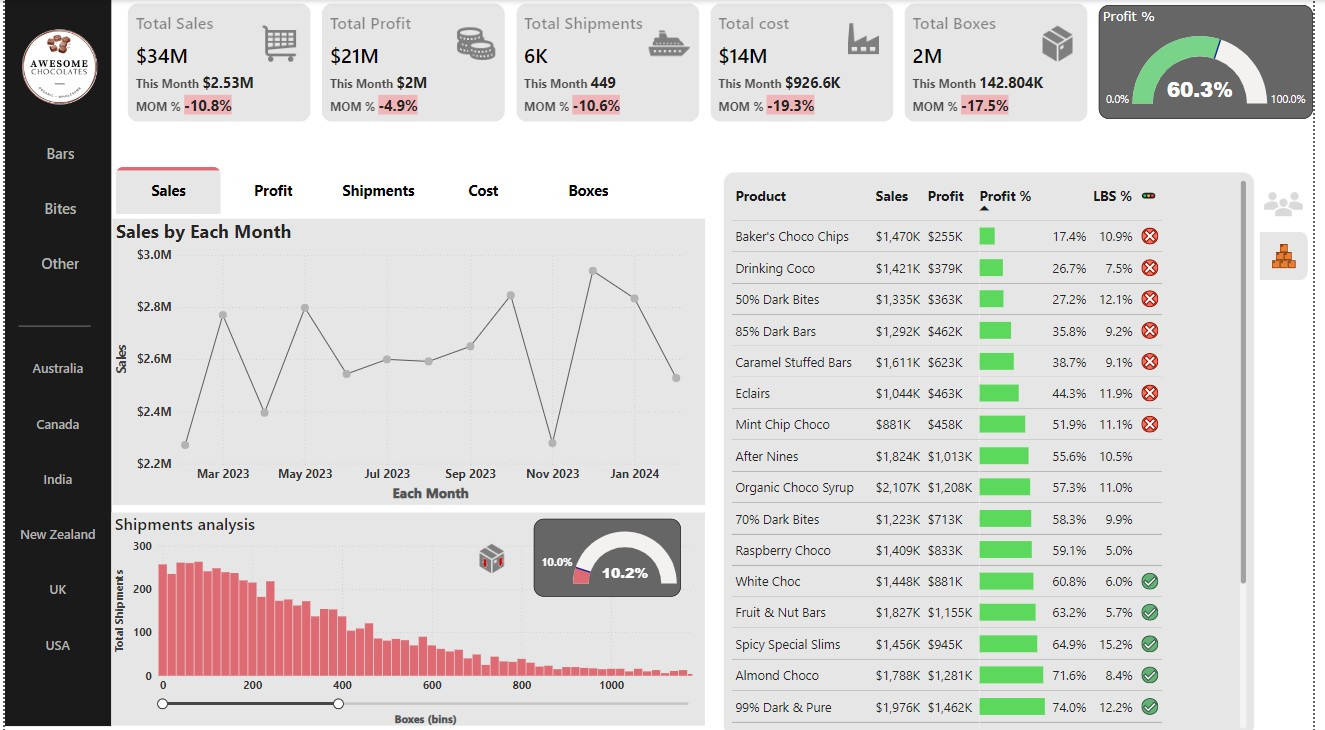

This screenshot's page, from the dashboard's own definition file:
{"tool":"powerbi","page":{"name":"Sales Report","canvas":[1920,1080],"ordinal":1},"visuals":[{"type":"shape","box":[0,0,156.4,1065.5],"z":0},{"type":"cardVisual","fields":{"Data":["-measures.Total Sales","-measures.Total Profit","-measures.Total Shipments","-measures.Total cost","-measures.Total Boxes"]},"box":[179.6,0,1411.9,183.6],"z":1000},{"type":"gauge","fields":{"Y":["-measures.Profit %"]},"box":[1605.5,7.3,314.5,167.3],"z":2000},{"type":"image","box":[20,29.1,120,138.2],"z":3000},{"type":"lineChart","fields":{"Y":["-measures.Total Sales","-measures.Total Profit","-measures.Total Shipments","-measures.Total cost","-measures.Total Boxes"],"Category":["calendar.Start of Month"]},"box":[157.7,321,869.4,420],"z":4000},{"type":"advancedSlicerVisual","fields":{"Values":["Measure selector.Measure selector"]},"box":[157.1,240.8,781.5,79.6],"z":5000},{"type":"columnChart","title":"Shipments analysis","fields":{"Category":["shipments.Boxes (bins)"],"Y":["-measures.Total Shipments"]},"box":[156.4,752.7,870.9,312.7],"z":6000},{"type":"gauge","fields":{"Y":["-measures.LBS %"]},"box":[776.4,761.8,216.4,114.5],"z":7000},{"type":"image","box":[678.2,789.1,70.9,61.8],"z":8000},{"type":"tableEx","title":"product details","fields":{"Values":["products.Product","-measures.Total Sales","-measures.Total Profit","-measures.Profit %","-measures.LBS %","-measures.Profit target indicator"]},"box":[1054.5,252.7,778.2,827.3],"z":10000},{"type":"image","title":"product icon","box":[1832.7,336.4,87.3,80],"z":11000},{"type":"advancedSlicerVisual","fields":{"Values":["products.Category"]},"box":[10.9,183.6,140,245.5],"z":12000},{"type":"advancedSlicerVisual","fields":{"Values":["locations.Geo"]},"box":[7.3,496.4,140,494.5],"z":13000},{"type":"shape","box":[20,460,105.5,36.4],"z":14000},{"type":"image","title":"people dull","box":[1832.7,261.8,87.3,74.5],"z":16000}]}

Visuals, with their boxes in screenshot pixels (x1, y1, x2, y2), scaled from the page's 1920x1080 canvas onto the 1325x730 screenshot:
shape: 0,0,108,720
cardVisual - -measures.Total Sales x -measures.Total Profit: 124,0,1098,124
gauge - -measures.Profit %: 1108,5,1324,118
image: 14,20,97,113
lineChart - -measures.Total Sales x -measures.Total Profit: 109,217,709,501
advancedSlicerVisual - Measure selector.Measure selector: 108,163,648,217
"Shipments analysis" columnChart: 108,509,709,720
gauge - -measures.LBS %: 536,515,685,592
image: 468,533,517,575
"product details" tableEx: 728,171,1265,729
"product icon" image: 1265,227,1324,281
advancedSlicerVisual - products.Category: 8,124,104,290
advancedSlicerVisual - locations.Geo: 5,336,102,670
shape: 14,311,87,336
"people dull" image: 1265,177,1324,227
